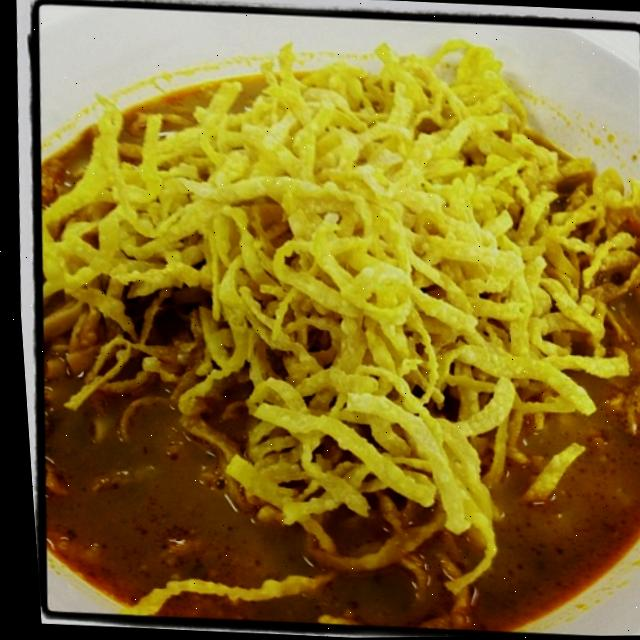面条主食: (31, 35, 640, 620)
